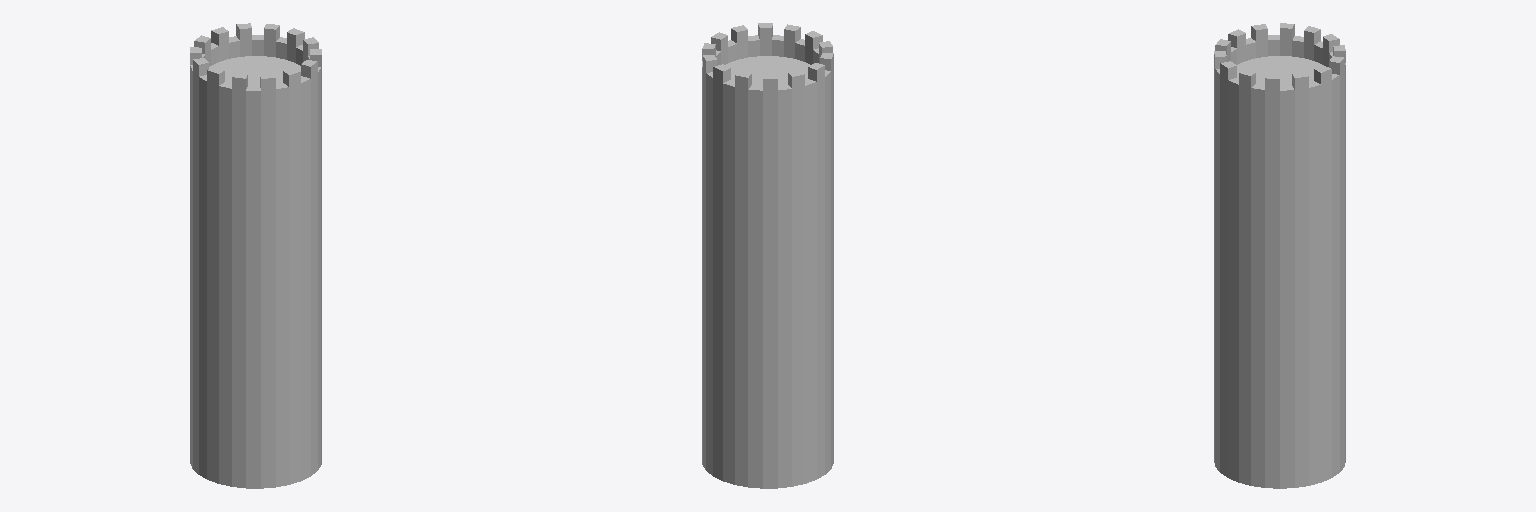
The model's file is wizeza2.obj.
3 renders of one model, left to right at view 1: azimuth 30°, elevation 25°; view 2: azimuth 150°, elevation 25°; view 3: azimuth 270°, elevation 25°, orthographic.
Parts seen in each view (by area): view 1: wieza; view 2: wieza; view 3: wieza.
Boxes of the visible parts, x1,y1,x2,y2 form: wieza: [190, 23, 321, 488]; wieza: [702, 23, 833, 488]; wieza: [1214, 23, 1345, 488].
Size of the model in its own units: 8.2 by 28 by 8.2.